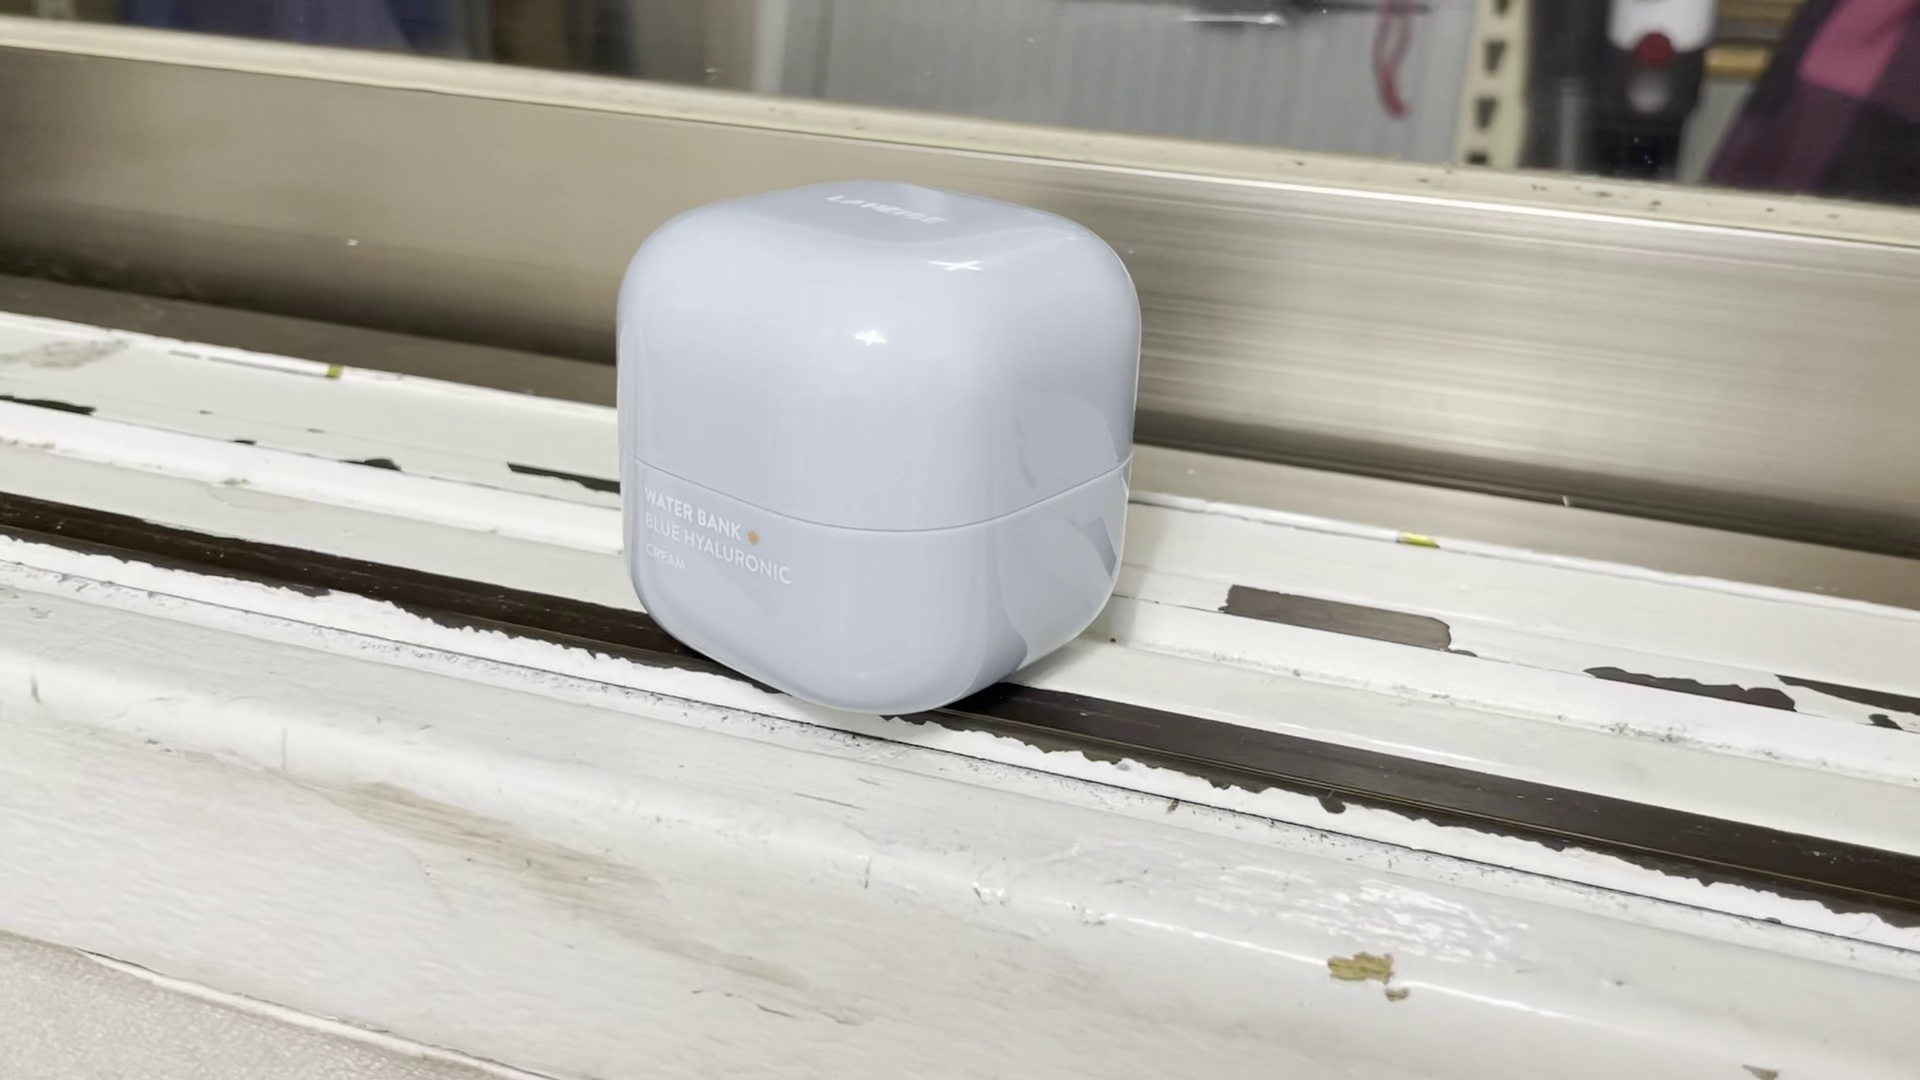cream: (611, 174, 1135, 709)
